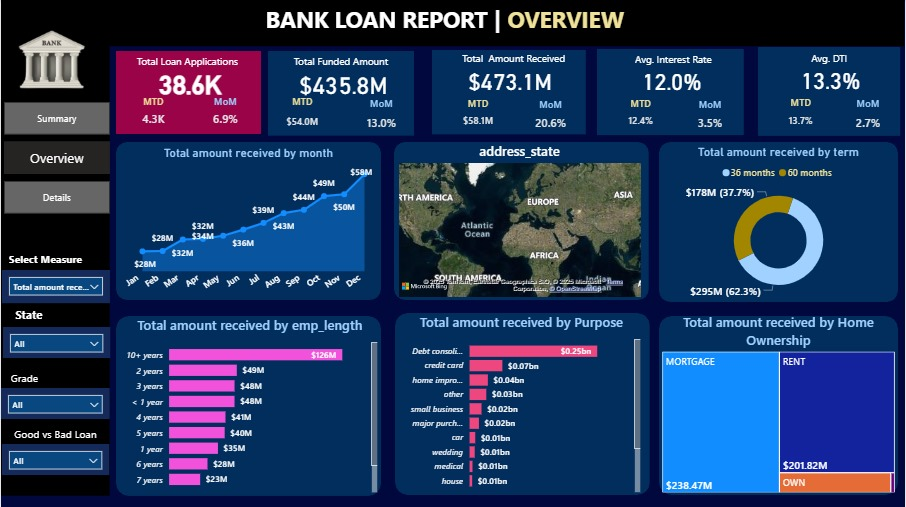

The dashboard page shown, as its layout file describes it:
{"tool":"powerbi","page":{"name":"Overview","canvas":[1280,720],"ordinal":1},"visuals":[{"type":"shape","box":[0,59.5,154.5,643.5],"z":0},{"type":"shape","box":[1073.4,66.6,201.5,125.9],"z":0,"group":"g4"},{"type":"shape","box":[844.7,69.9,208.3,122.1],"z":0,"group":"g5"},{"type":"shape","box":[610.9,71.1,218.3,119.6],"z":0,"group":"g3"},{"type":"shape","box":[378.4,72.3,206.9,120.5],"z":0,"group":"g2"},{"type":"shape","box":[163.6,72.7,205.5,117.6],"z":0,"group":"g1"},{"type":"group","id":"g1","title":"Group 1","box":[158.7,72.3,211.2,117.6],"z":1000},{"type":"card","fields":{"Values":["Bank_loan_data.Avg DTI"]},"box":[1080.1,79,191.4,64.9],"z":1000,"group":"g4"},{"type":"card","fields":{"Values":["Bank_loan_data.avg interest rate"]},"box":[851.7,81.9,197.8,62.9],"z":1000,"group":"g5"},{"type":"card","fields":{"Values":["Bank_loan_data.Total amount received"]},"box":[618.2,82.8,207.2,61.6],"z":1000,"group":"g3"},{"type":"card","fields":{"Values":["Bank_loan_data.Total Loan Applications"]},"box":[186.5,88.8,161.9,55.3],"z":1000,"group":"g1"},{"type":"card","fields":{"Values":["Bank_loan_data.Total Funded Amount"]},"box":[390.6,94,188.5,50.7],"z":1000,"group":"g2"},{"type":"shape","box":[0,0,1280,65.5],"z":2000},{"type":"textbox","box":[1072.9,67.5,201.5,34.3],"z":2000,"group":"g4"},{"type":"textbox","box":[625.5,68,203,36.3],"z":2000,"group":"g3"},{"type":"textbox","box":[865.8,69.4,173.9,39.9],"z":2000,"group":"g5"},{"type":"textbox","box":[158.7,72.3,211.2,37.1],"z":2000,"group":"g1"},{"type":"textbox","box":[381.4,72.4,201.2,33.5],"z":2000,"group":"g2"},{"type":"card","title":"MTD","fields":{"Values":["Bank_loan_data.MTD Loan Applications"]},"box":[186.3,134.8,58.1,54.8],"z":3000,"group":"g1"},{"type":"card","title":"MTD","fields":{"Values":["Bank_loan_data.MTD funded amount"]},"box":[393.4,135.2,66.6,61.8],"z":3000,"group":"g2"},{"type":"card","title":"MTD","fields":{"Values":["Bank_loan_data.MTD avg DTI"]},"box":[1094.1,136.4,79,56.3],"z":3000,"group":"g4"},{"type":"card","title":"MTD","fields":{"Values":["Bank_loan_data.MTD Received  amount"]},"box":[633.4,137.4,85.6,53.5],"z":3000,"group":"g3"},{"type":"card","title":"MTD","fields":{"Values":["Bank_loan_data.MTD avg interest rate"]},"box":[866.1,137.6,81.7,54.6],"z":3000,"group":"g5"},{"type":"shape","box":[163,201.3,375.6,223.9],"z":3000},{"type":"card","title":"MoM","fields":{"Values":["Bank_loan_data.MoM Loan Applications"]},"box":[287,134.8,60.9,54.8],"z":4000,"group":"g1"},{"type":"card","title":"MoM","fields":{"Values":["Bank_loan_data.MoM total funded amount"]},"box":[501.1,136.8,75.1,58.6],"z":4000,"group":"g2"},{"type":"card","title":"MoM","fields":{"Values":["Bank_loan_data.MoM avg DTI"]},"box":[1183.4,138.1,91,59.6],"z":4000,"group":"g4"},{"type":"card","title":"MoM","fields":{"Values":["Bank_loan_data.MoM total amount received"]},"box":[730.1,138.9,98.6,56.6],"z":4000,"group":"g3"},{"type":"card","title":"MoM","fields":{"Values":["Bank_loan_data.MoM avg int rate"]},"box":[958.5,139.2,94.1,57.8],"z":4000,"group":"g5"},{"type":"textbox","box":[0,429.4,79.4,38.3],"z":4000},{"type":"textbox","box":[369.6,0,540.9,58.8],"z":5000},{"type":"group","id":"g2","title":"Group 1","box":[378.4,72.3,206.9,124.7],"z":6000},{"type":"group","id":"g3","title":"Group 1","box":[610.9,68,218.3,129],"z":7000},{"type":"group","id":"g4","title":"Group 1","box":[1072.9,66.6,202.7,130.4],"z":8000},{"type":"group","id":"g5","title":"Group 1","box":[844.7,69.4,208.3,127.6],"z":9000},{"type":"slicer","fields":{"Values":["Bank_loan_data.address_state"]},"box":[2.8,463.5,151.7,43.9],"z":10000},{"type":"slicer","fields":{"Values":["Bank_loan_data.grade"]},"box":[0,549.9,154.5,43.9],"z":11000},{"type":"textbox","box":[0,520.2,66.6,29.8],"z":12000},{"type":"slicer","fields":{"Values":["Bank_loan_data.Good vs Bad Loan"]},"box":[1.4,629.3,151.7,43.9],"z":13000},{"type":"textbox","box":[0,599.5,154.5,29.8],"z":14000},{"type":"areaChart","fields":{"Y":["Bank_loan_data.Total amount received"],"Category":["Date Table.month"]},"box":[170.1,206.9,361.4,222.5],"z":15000},{"type":"slicer","fields":{"Values":["Select Measure.Select Measure"]},"box":[1.4,382.7,153.1,46.8],"z":16000},{"type":"textbox","box":[0,351.5,126.1,29.8],"z":17000},{"type":"shape","box":[557,201.3,361.4,223.9],"z":18000},{"type":"filledMap","fields":{"Category":["Bank_loan_data.address_state"]},"box":[558.4,201.3,352.9,223.9],"z":19000},{"type":"shape","box":[932.6,201.3,338.7,226.8],"z":20000},{"type":"shape","box":[163,447.9,375.6,255.1],"z":21000},{"type":"donutChart","fields":{"Y":["Bank_loan_data.Total amount received"],"Category":["Bank_loan_data.term"]},"box":[932.6,205.5,338.7,222.5],"z":22000},{"type":"barChart","fields":{"Y":["Bank_loan_data.Total amount received"],"Category":["Bank_loan_data.emp_length"]},"box":[167.2,447.9,371.3,255.1],"z":23000},{"type":"shape","box":[558.4,443.6,361.4,258],"z":24000},{"type":"barChart","fields":{"Y":["Bank_loan_data.Total amount received"],"Category":["Bank_loan_data.purpose"]},"box":[564.1,443.6,347.2,259.4],"z":25000},{"type":"shape","box":[932.6,447.9,338.7,253.7],"z":26000},{"type":"treemap","fields":{"Values":["Bank_loan_data.Total amount received"],"Group":["Bank_loan_data.home_ownership"]},"box":[932.6,443.6,338.7,259.4],"z":27000},{"type":"pageNavigator","box":[4.3,144.6,150.2,160.2],"z":28000},{"type":"image","box":[4.3,4.3,133.2,161.6],"z":29000}]}

Visuals, with their boxes in screenshot pixels (x1, y1, x2, y2), scaled from the page's 1280x720 canvas onto the 906x507 screenshot:
shape: (0,42,109,495)
shape: (760,47,902,136)
shape: (598,49,745,135)
shape: (432,50,587,134)
shape: (268,51,414,136)
shape: (116,51,261,134)
"Group 1" group: (112,51,262,134)
card - Bank_loan_data.Avg DTI: (765,56,900,101)
card - Bank_loan_data.avg interest rate: (603,58,743,102)
card - Bank_loan_data.Total amount received: (438,58,584,102)
card - Bank_loan_data.Total Loan Applications: (132,63,247,101)
card - Bank_loan_data.Total Funded Amount: (276,66,410,102)
shape: (0,0,905,46)
textbox: (759,48,902,72)
textbox: (443,48,586,73)
textbox: (613,49,736,77)
textbox: (112,51,262,77)
textbox: (270,51,412,75)
"MTD" card: (132,95,173,134)
"MTD" card: (278,95,326,139)
"MTD" card: (774,96,830,136)
"MTD" card: (448,97,509,134)
"MTD" card: (613,97,671,135)
shape: (115,142,381,299)
"MoM" card: (203,95,246,134)
"MoM" card: (355,96,408,138)
"MoM" card: (838,97,902,139)
"MoM" card: (517,98,587,138)
"MoM" card: (678,98,745,139)
textbox: (0,302,56,329)
textbox: (262,0,644,41)
"Group 1" group: (268,51,414,139)
"Group 1" group: (432,48,587,139)
"Group 1" group: (759,47,903,139)
"Group 1" group: (598,49,745,139)
slicer - Bank_loan_data.address_state: (2,326,109,357)
slicer - Bank_loan_data.grade: (0,387,109,418)
textbox: (0,366,47,387)
slicer - Bank_loan_data.Good vs Bad Loan: (1,443,108,474)
textbox: (0,422,109,443)
areaChart - Bank_loan_data.Total amount received x Date Table.month: (120,146,376,302)
slicer - Select Measure.Select Measure: (1,269,109,302)
textbox: (0,248,89,268)
shape: (394,142,650,299)
filledMap - Bank_loan_data.address_state: (395,142,645,299)
shape: (660,142,900,301)
shape: (115,315,381,495)
donutChart - Bank_loan_data.Total amount received x Bank_loan_data.term: (660,145,900,301)
barChart - Bank_loan_data.Total amount received x Bank_loan_data.emp_length: (118,315,381,495)
shape: (395,312,651,494)
barChart - Bank_loan_data.Total amount received x Bank_loan_data.purpose: (399,312,645,495)
shape: (660,315,900,494)
treemap - Bank_loan_data.Total amount received x Bank_loan_data.home_ownership: (660,312,900,495)
pageNavigator: (3,102,109,215)
image: (3,3,97,117)
